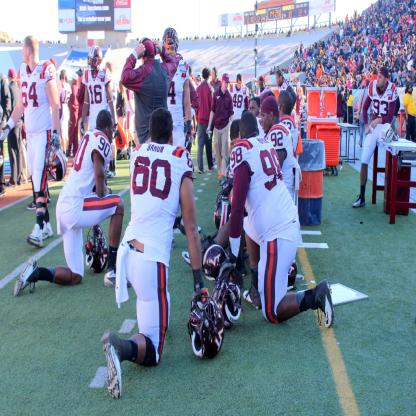Helmet: (187, 293, 234, 367), (216, 258, 247, 326), (217, 256, 248, 292), (202, 245, 233, 280), (47, 137, 69, 180), (87, 43, 101, 71)
